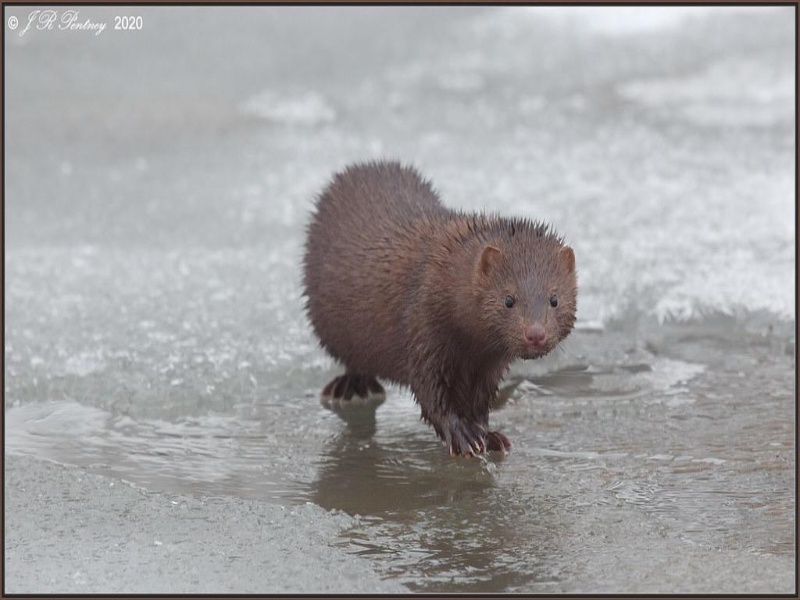minkish: (301, 160, 581, 459)
